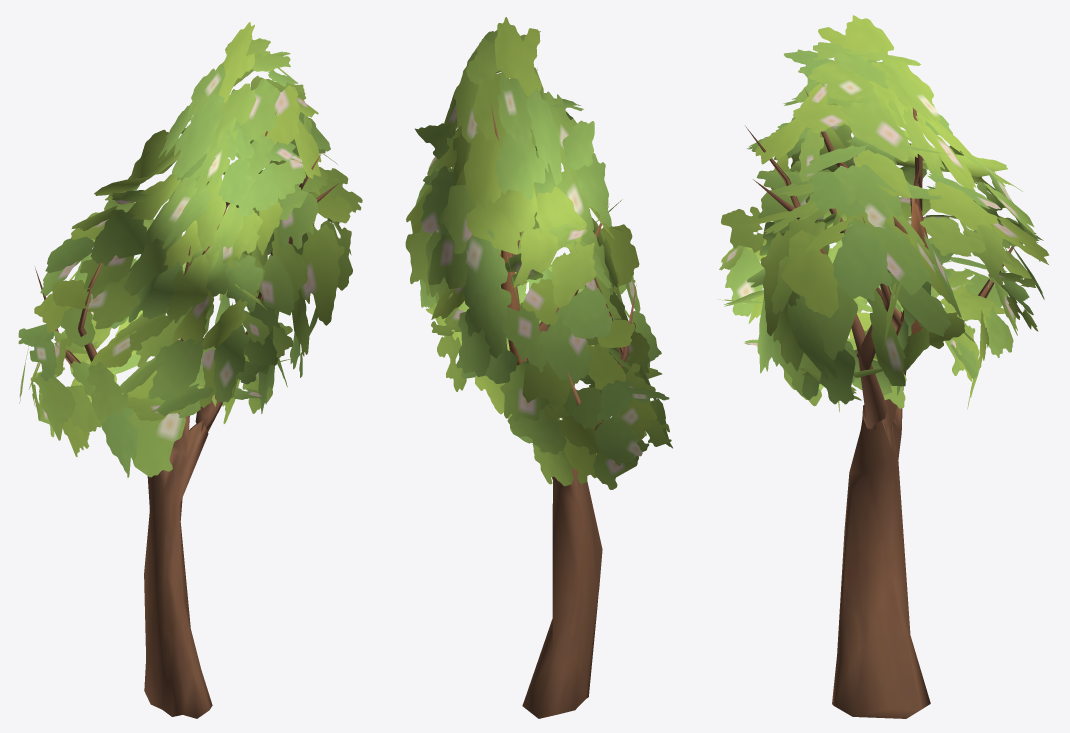
File: WriteLoop_Tree_C_LOD2.glb
3 views of the same model, side by side, from view 1: azimuth 30°, elevation 25°; view 2: azimuth 150°, elevation 25°; view 3: azimuth 270°, elevation 25° (orthographic). The views are drawn at different scales.
Parts seen in each view (by area): view 1: Tree_Foliage, Tree_Wood; view 2: Tree_Foliage, Tree_Wood; view 3: Tree_Foliage, Tree_Wood.
Part boxes in pixels (x1,y1,x2,y2): Tree_Foliage: (18, 22, 362, 477); Tree_Wood: (35, 111, 338, 718); Tree_Foliage: (405, 17, 672, 489); Tree_Wood: (490, 70, 636, 718); Tree_Foliage: (717, 15, 1049, 412); Tree_Wood: (745, 89, 1014, 718).
Size of the model in its own units: 1.34 by 3.05 by 1.32.
Materials: 2 (2 with a texture image).
